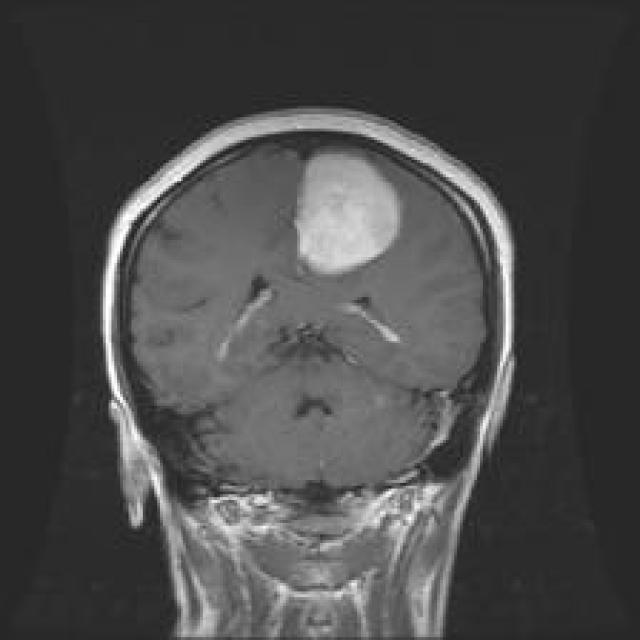meningioma_tumor: (284, 132, 413, 289)
